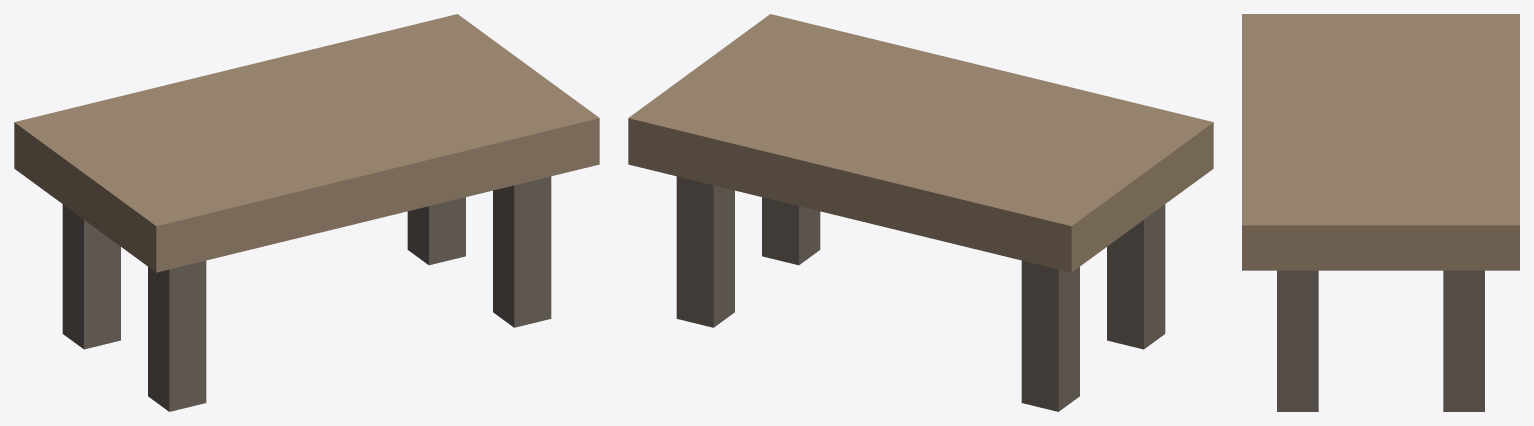
The model's file is coffee_table.glb.
The picture shows the model from 3 angles, left to right: view 1: azimuth 30°, elevation 25°; view 2: azimuth 150°, elevation 25°; view 3: azimuth 270°, elevation 25°; orthographic projection. The views are drawn at different scales.
Visible parts, largest first — view 1: body; view 2: body; view 3: body.
Part boxes in pixels (bbox=[...]): body: bbox=[14, 14, 599, 411]; body: bbox=[628, 14, 1213, 411]; body: bbox=[1242, 14, 1519, 411].
Bounding box in the file's own units: 0.9 × 0.4 × 0.5.
